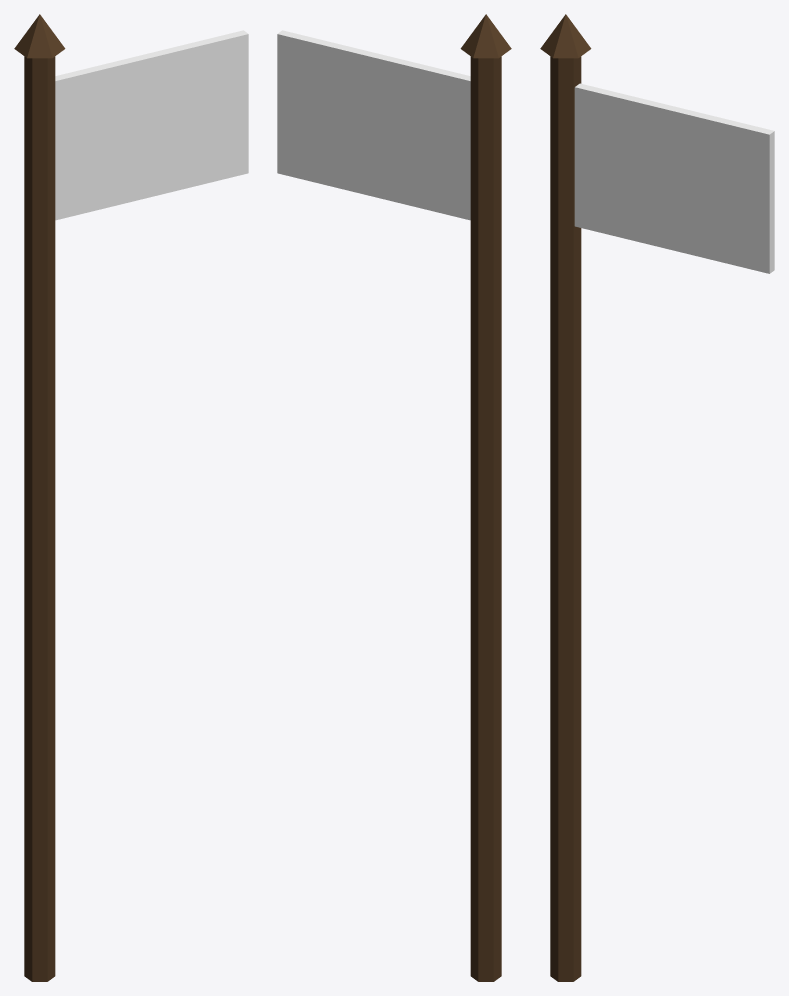
File: flag.glb
The picture shows the model from 3 angles, left to right: view 1: azimuth 30°, elevation 25°; view 2: azimuth 150°, elevation 25°; view 3: azimuth 330°, elevation 25°; orthographic projection.
Parts seen in each view (by area): view 1: flag; view 2: flag; view 3: flag.
Boxes of the visible parts, x1,y1,x2,y2 form: flag: (14,14,248,981); flag: (277,14,511,981); flag: (540,14,774,981).
Size of the model in its own units: 1.02 by 4.14 by 0.2.
